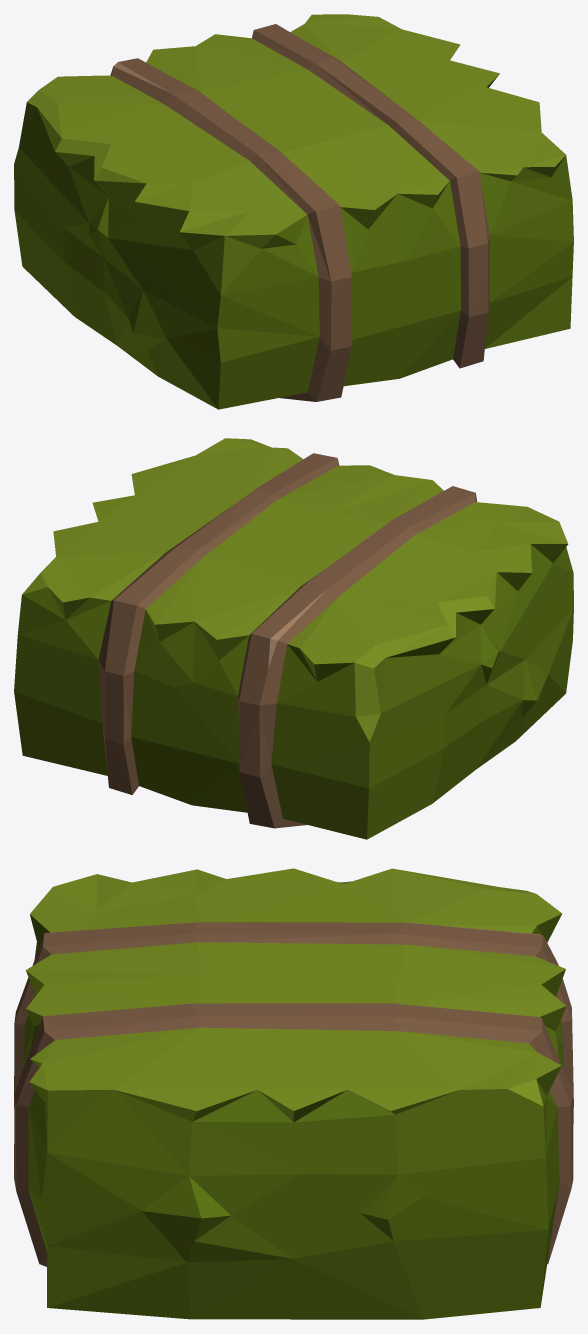
The model's file is EA_M_HayBale_Square_Green_01d.fbx.
The picture shows the model from 3 angles, top to bottom: view 1: azimuth 30°, elevation 25°; view 2: azimuth 150°, elevation 25°; view 3: azimuth 270°, elevation 25°; orthographic projection. The views are drawn at different scales.
Parts seen in each view (by area): view 1: EA_M_HayBale_Square_Green_01d_LOD0; view 2: EA_M_HayBale_Square_Green_01d_LOD0; view 3: EA_M_HayBale_Square_Green_01d_LOD0.
Part boxes in pixels (x1,y1,x2,y2): EA_M_HayBale_Square_Green_01d_LOD0: [14, 14, 573, 409]; EA_M_HayBale_Square_Green_01d_LOD0: [14, 438, 573, 839]; EA_M_HayBale_Square_Green_01d_LOD0: [14, 868, 573, 1319].
Size of what is drawn, in the model's own units: 1.48 by 0.7412 by 1.41.
